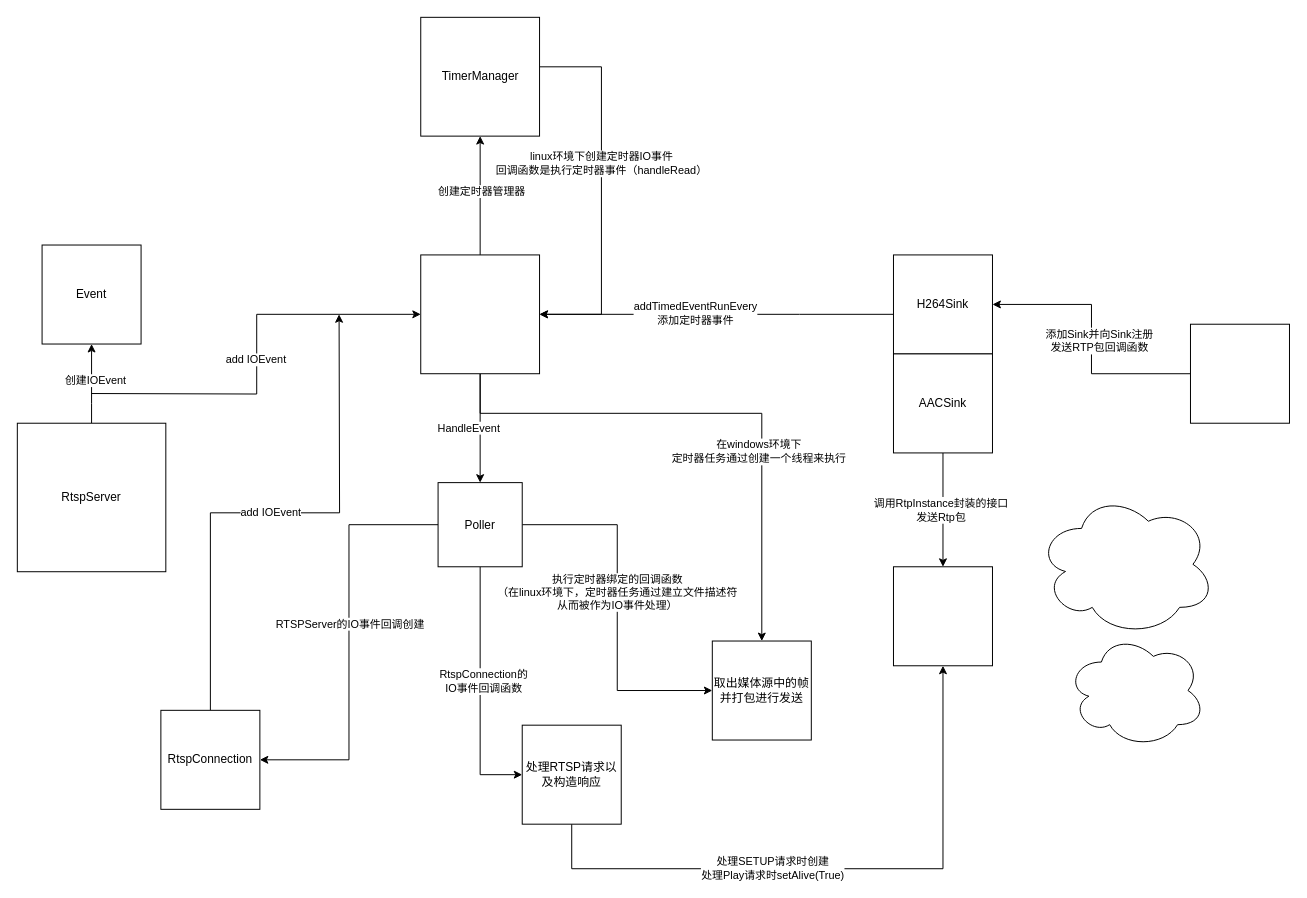
This 1307x898 diagram has some shape labels left out. Here are the shapes that lost their labels. From the top down, the centre of each, then its label:
At pixel 480 314: "EventScheduler".
At pixel 1239 373: "MediaSession".
At pixel 1125 564: "每一个RtpInstance 对象都对应一个客户端的一路媒体流（比如视频流或音频流）".
At pixel 942 616: "RtpInstance".
At pixel 1135 690: "RtpInstance负责发送RTP包，向上层提供简洁的API".
